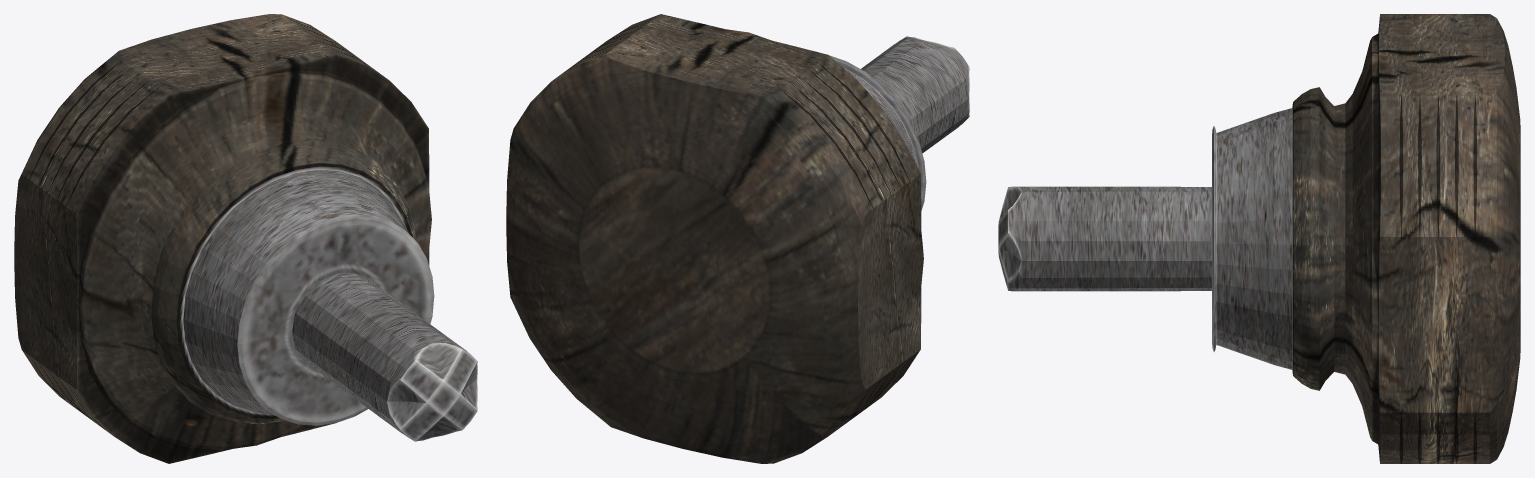
The model's file is workshop_short_phillips_screw.obj.
3 views of the same model, side by side, from view 1: azimuth 30°, elevation 25°; view 2: azimuth 150°, elevation 25°; view 3: azimuth 270°, elevation 25° (orthographic).
Size of the model in its own units: 0.014 by 0.014 by 0.018.
1 material, 1 textured.
